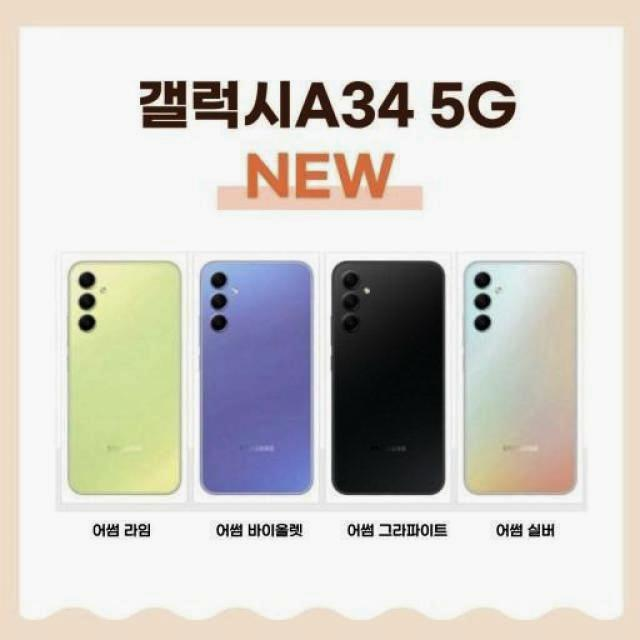lens: (208, 269, 231, 335), (78, 267, 99, 333), (341, 272, 362, 335), (473, 273, 494, 332)
phone: (330, 258, 450, 502), (190, 261, 312, 497), (464, 259, 580, 500), (69, 262, 185, 500)
